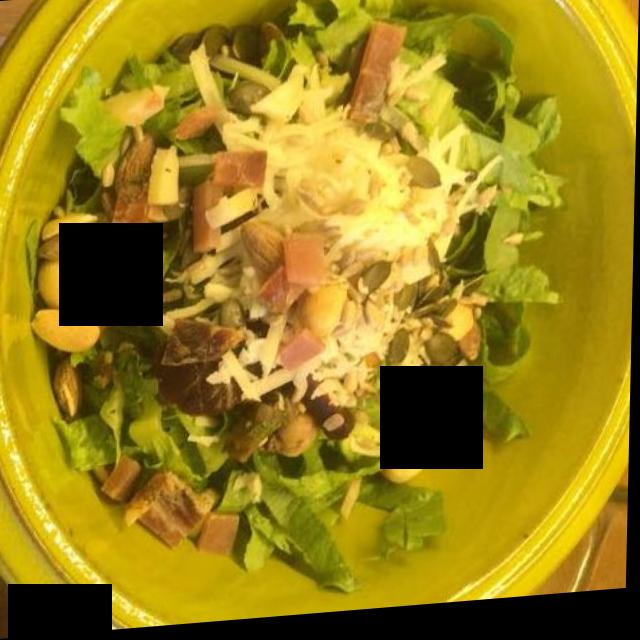parmesan: (193, 27, 474, 452)
salad-leaf-salad-green: (39, 12, 565, 555), (171, 25, 506, 502)
